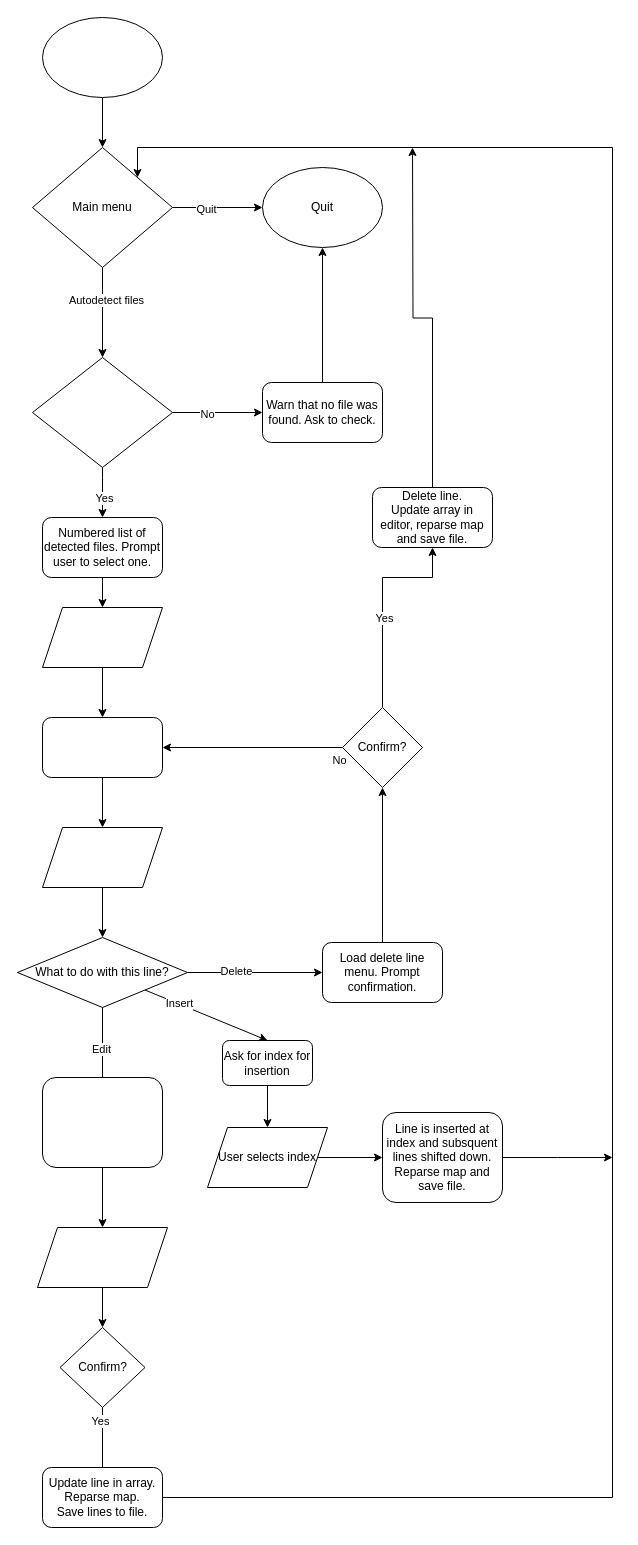
Image size: 638x1545. Some labels were removed from this diagram. The box of each missing label's shape, as (x1, y1, x2, y2) in pixels:
Autodetect found any files?: (32, 356, 172, 468)
Detect if line is section name or value and prompt edit accordingly: (42, 1076, 162, 1168)
Numbered list of lines. Prompt user which line to work with.: (42, 716, 162, 778)
Open Program: (42, 16, 162, 98)
User edits section name or value: (36, 1226, 168, 1288)
User selects file: (42, 606, 162, 668)
User selects line number: (42, 826, 162, 888)
